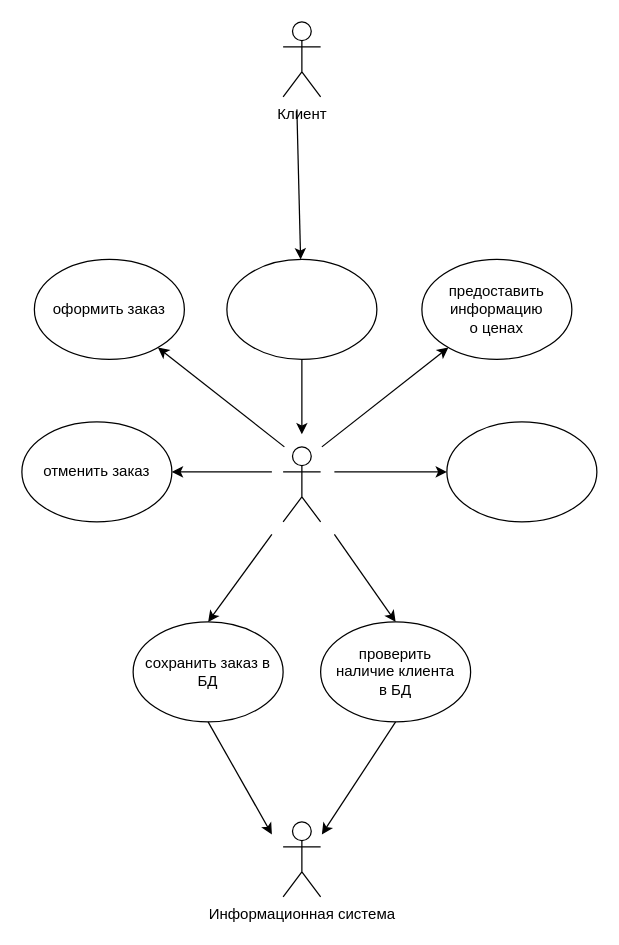
The diagram is 619 pixels wide and 945 high, and some of its shapes have lost their labels. Here are the shapes that lost their labels. From the top down, the centre of each, then its label:
At (301,308): "сделать заказ".
At (301,484): "Сотрудник".
At (521,471): "отвечать на телефонные звонки".
